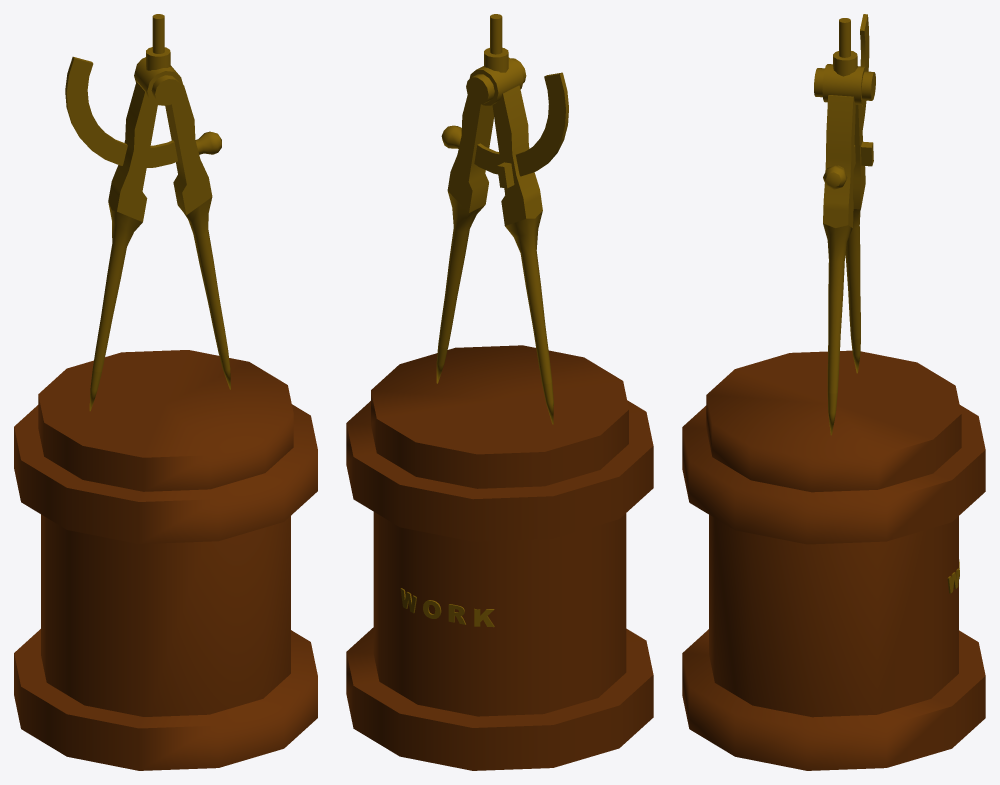
Rendered from mesh_Weight_Work.fbx.
3 views of the same model, side by side, from view 1: azimuth 30°, elevation 25°; view 2: azimuth 150°, elevation 25°; view 3: azimuth 270°, elevation 25° (orthographic).
Visible parts, largest first — view 1: model_Weight_Passer; view 2: model_Weight_Passer; view 3: model_Weight_Passer.
Part boxes in pixels (left/top/right/bottom): model_Weight_Passer: left=14, top=14, right=317, bottom=770; model_Weight_Passer: left=346, top=14, right=653, bottom=770; model_Weight_Passer: left=682, top=14, right=985, bottom=770.
Size of the model in its own units: 3.9 by 9.73 by 3.9.
